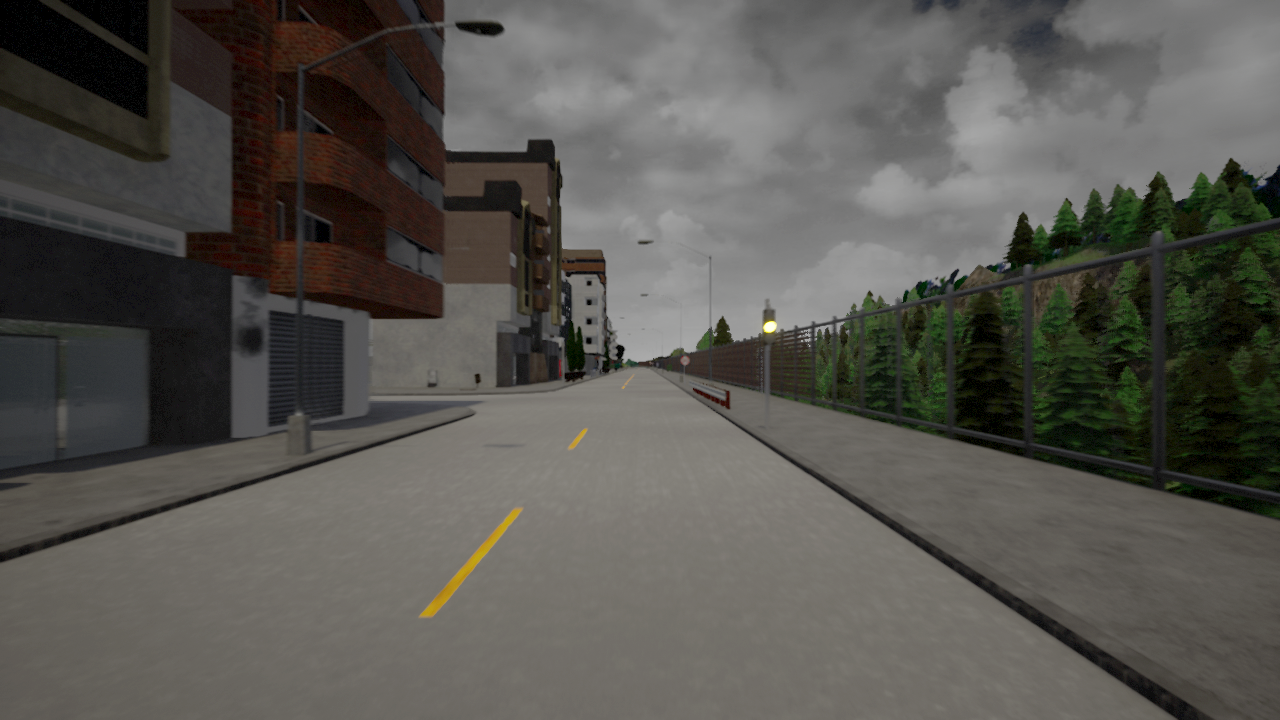yellow: (762, 307, 778, 346)
